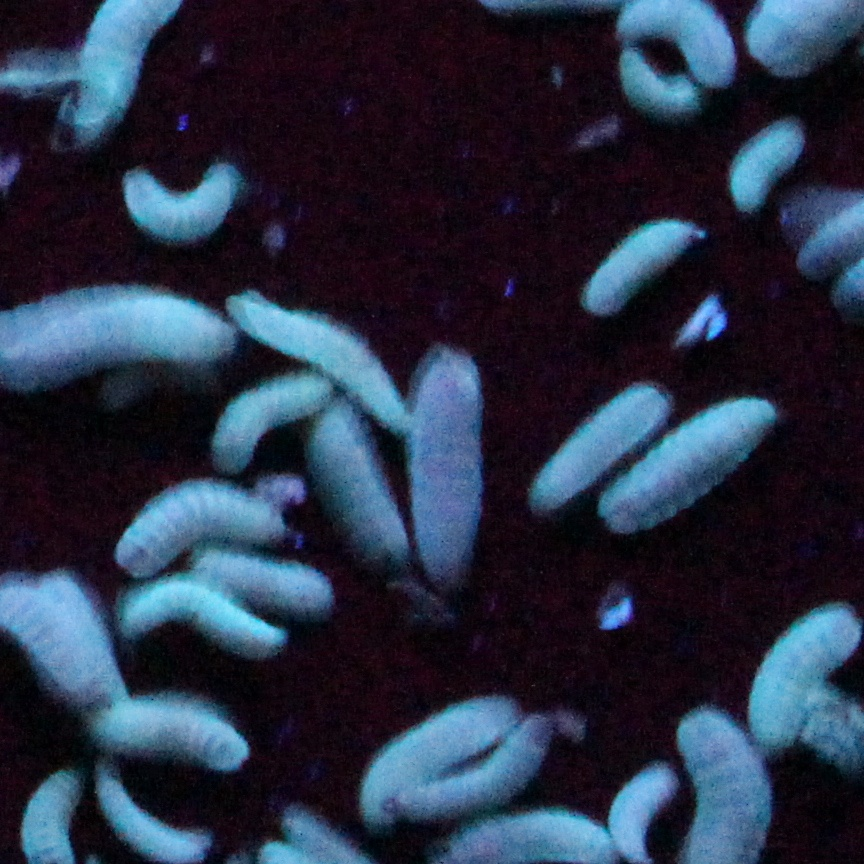larve: (227, 287, 419, 425), (600, 396, 779, 531), (354, 691, 525, 825), (521, 379, 669, 510), (739, 600, 864, 750), (414, 344, 487, 598), (389, 710, 556, 816), (308, 406, 416, 569), (116, 481, 287, 577), (216, 371, 333, 473), (581, 214, 702, 312), (94, 771, 216, 864), (194, 544, 339, 621), (119, 591, 291, 652), (83, 704, 252, 766), (123, 166, 241, 244), (731, 121, 804, 210), (616, 48, 696, 116)
